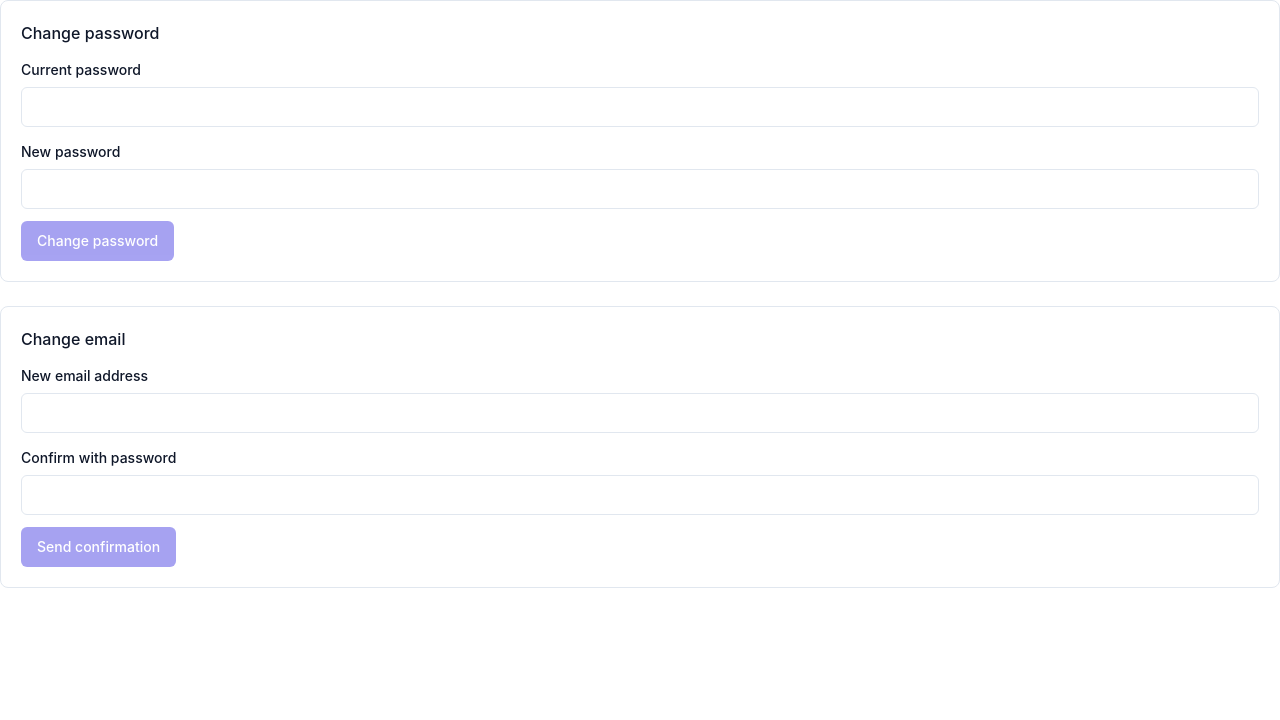
Scenario: AccountCredentials › submits a password change with current + new password
The image size is (1280, 720).
In the password field labelled "Current password": (640, 107) [21, 87, 1259, 127], type "oldpw"
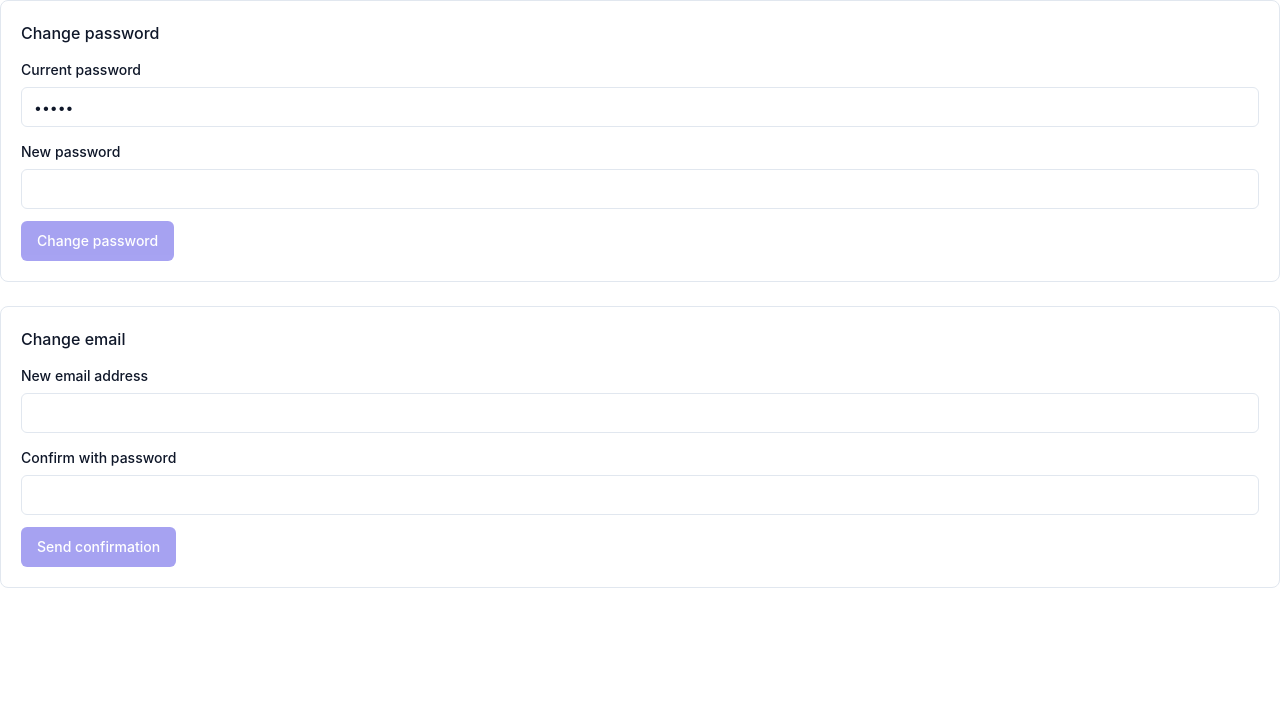
In the password field labelled "New password": (640, 189) [21, 169, 1259, 209], type "N3wStr0ngerPwd!"
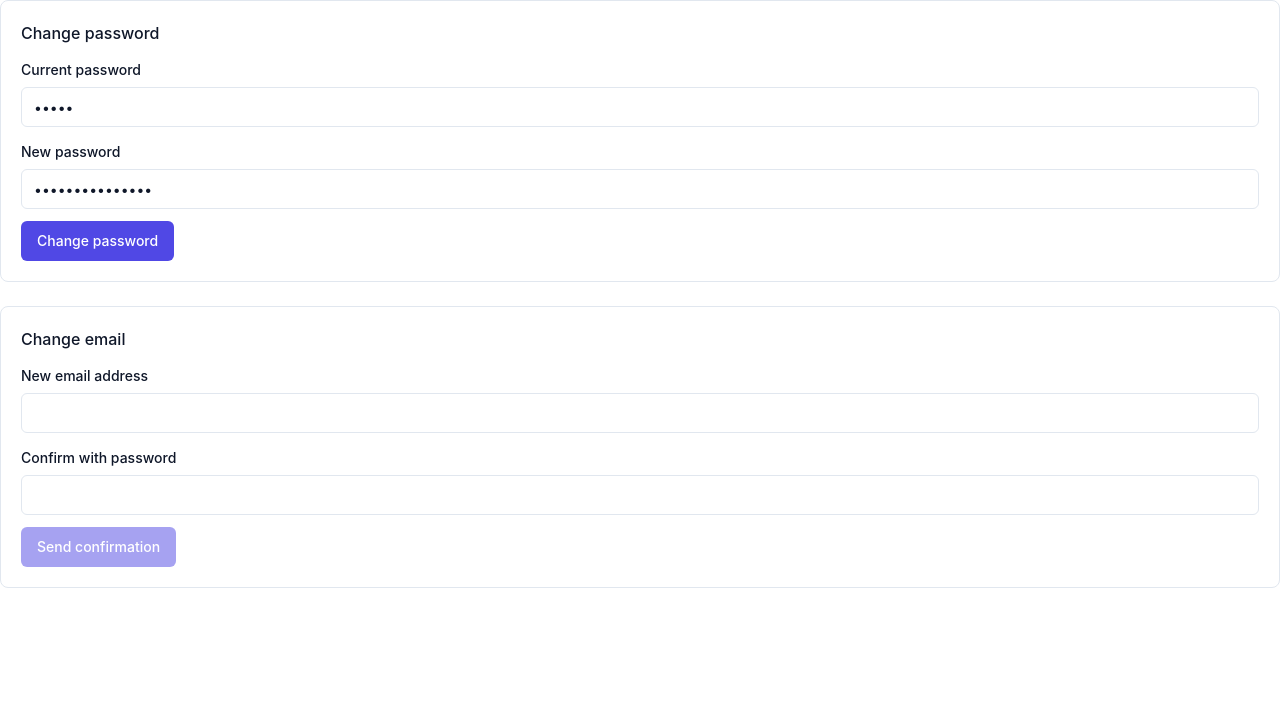
Click the button "Change password": (98, 241) [21, 221, 174, 261]
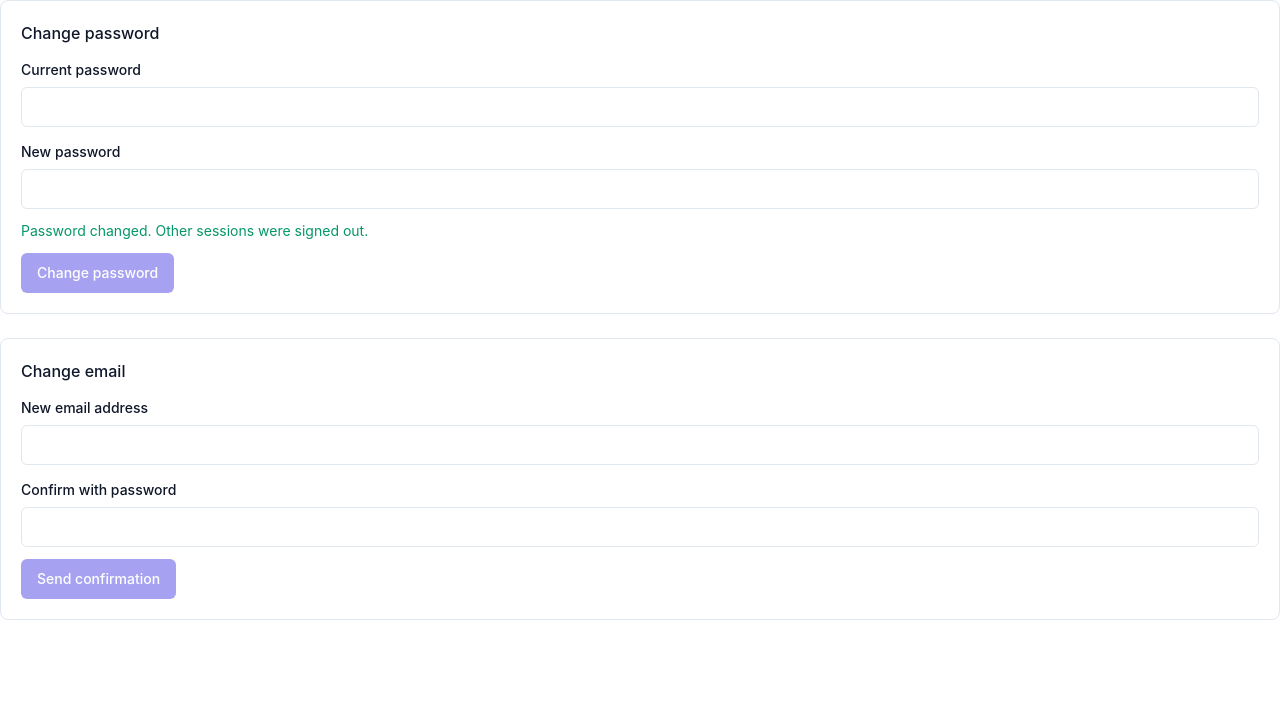
Check: the text "Password changed. Other sessions were signed out." is shown, box [21, 222, 368, 239]
